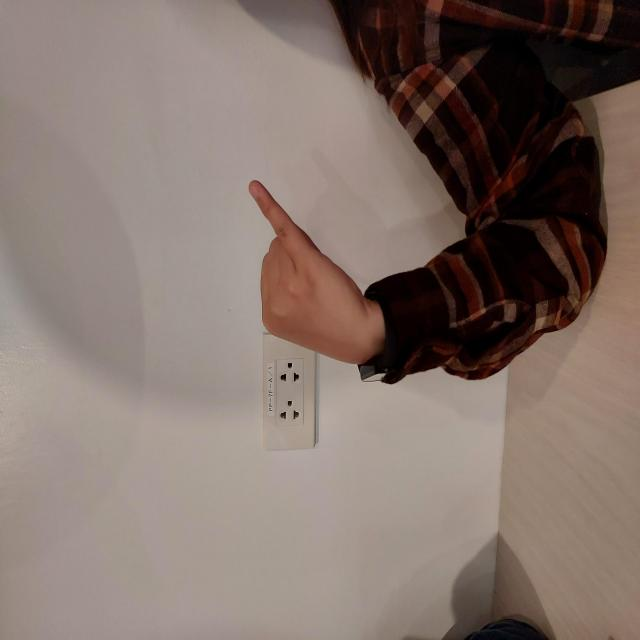J: (274, 245, 464, 372)
